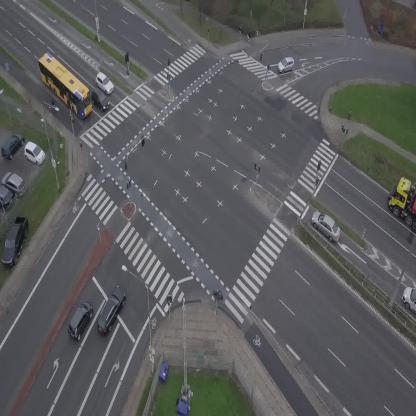bicycle: (210, 288, 228, 309), (243, 32, 253, 44), (49, 97, 56, 111)
bus: (30, 50, 101, 120)
car: (91, 284, 131, 337), (63, 298, 97, 342), (306, 207, 346, 244), (86, 87, 114, 114), (91, 71, 117, 96), (276, 55, 297, 74), (402, 287, 416, 312)
lorry: (388, 177, 416, 230)
